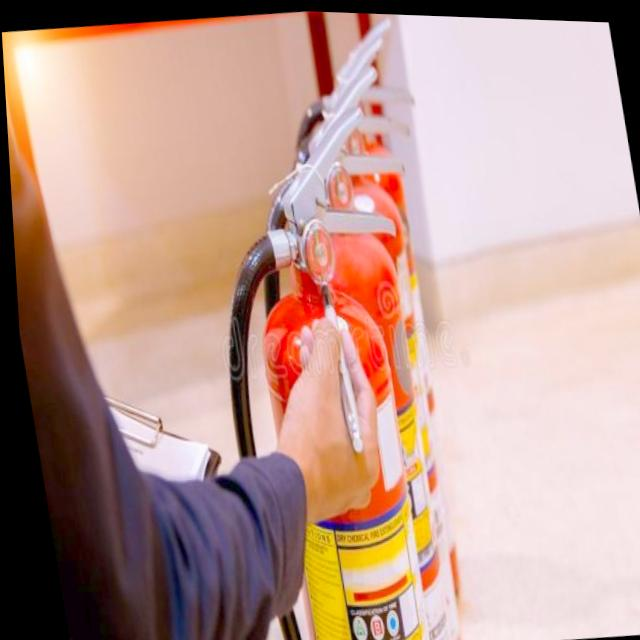FireExtinguisher: (171, 79, 464, 640), (222, 48, 478, 640)
